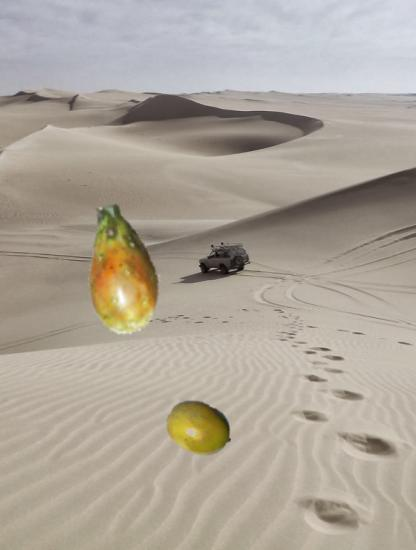Cactus: (55, 203, 189, 337)
Maracuja: (166, 394, 234, 462)
